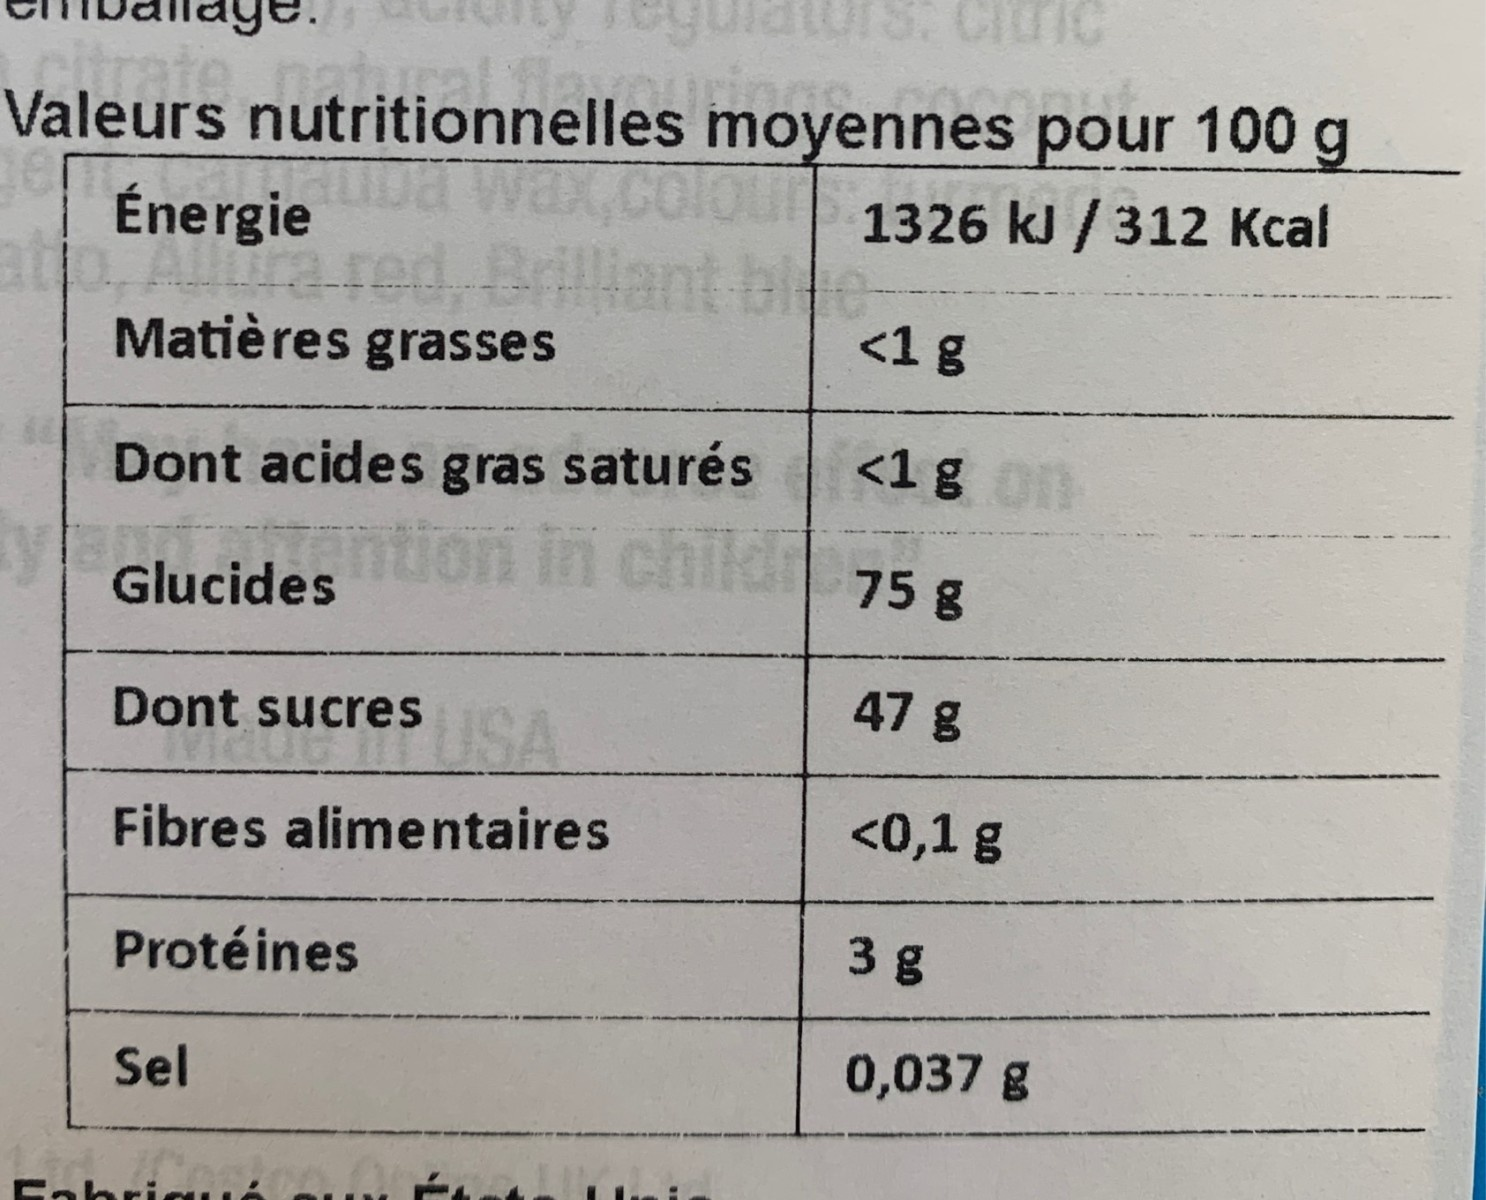column: (67, 156, 774, 1123), (831, 165, 1371, 1120)
table: (64, 156, 1428, 1141)
